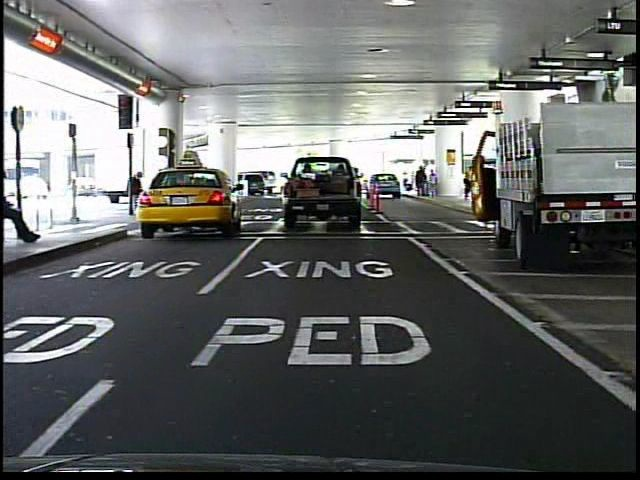person: (2, 165, 47, 246), (127, 165, 150, 221)
